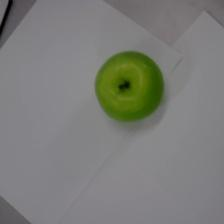green: (94, 49, 164, 123)
